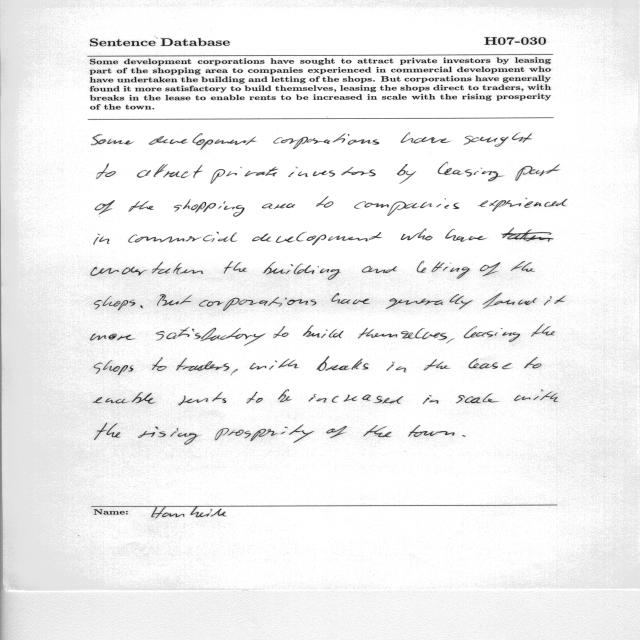word: (156, 327, 266, 346), (354, 198, 459, 216), (215, 424, 314, 443), (149, 133, 256, 150), (252, 232, 382, 245), (199, 297, 317, 311), (274, 134, 380, 149), (91, 262, 203, 276), (263, 262, 341, 280), (386, 295, 473, 310), (174, 199, 244, 217), (438, 162, 504, 181), (128, 232, 237, 243), (478, 198, 568, 211), (211, 167, 279, 184), (138, 427, 199, 445), (358, 328, 447, 340), (464, 132, 532, 147), (417, 261, 470, 279), (309, 394, 403, 404), (137, 164, 203, 178), (464, 326, 520, 342), (288, 167, 376, 177), (483, 293, 537, 308), (515, 164, 560, 181), (317, 356, 368, 371), (93, 392, 155, 404), (501, 228, 553, 242), (176, 358, 229, 371), (179, 392, 227, 405), (94, 361, 133, 376), (94, 296, 135, 310), (408, 425, 455, 437), (401, 133, 451, 144), (445, 229, 487, 242), (250, 359, 299, 370), (303, 325, 344, 338), (514, 390, 558, 402), (91, 134, 134, 145), (469, 358, 512, 369), (95, 423, 121, 440), (331, 293, 370, 304), (157, 294, 192, 306), (456, 394, 498, 404), (397, 164, 416, 184), (401, 229, 433, 240), (364, 425, 392, 437), (96, 163, 116, 179), (91, 334, 136, 341), (531, 324, 555, 337), (95, 200, 115, 215), (224, 261, 247, 274), (128, 201, 154, 212), (424, 359, 450, 370), (480, 262, 500, 276), (511, 261, 535, 272), (326, 426, 347, 438), (362, 266, 397, 273), (544, 296, 566, 306), (262, 203, 295, 209), (316, 197, 334, 208), (524, 357, 542, 368), (152, 357, 166, 371), (387, 362, 406, 372), (246, 392, 263, 403), (274, 326, 289, 338), (278, 390, 292, 402), (94, 234, 109, 245), (423, 395, 438, 404), (231, 369, 238, 376), (446, 339, 454, 344), (140, 306, 143, 309), (463, 435, 466, 437)
